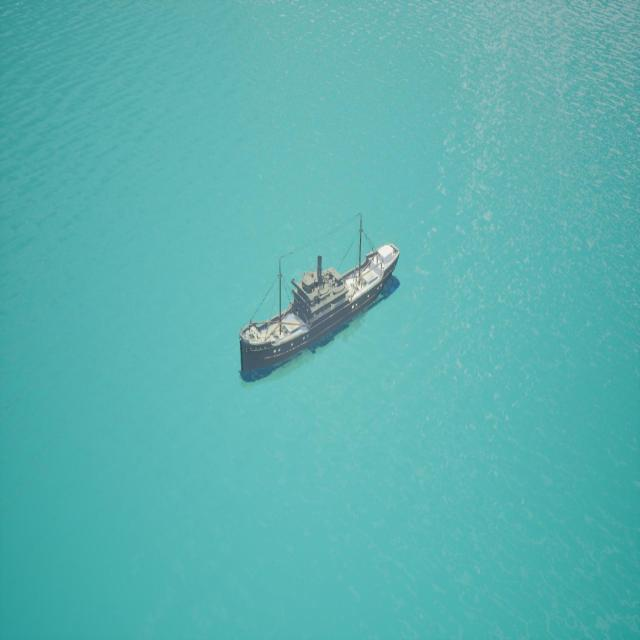fishing ship: (237, 230, 404, 385)
